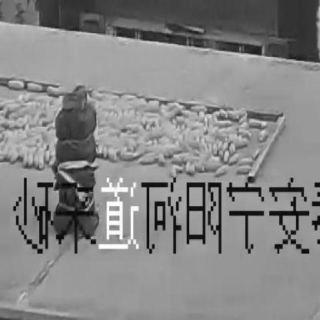other: (4, 83, 266, 173)
